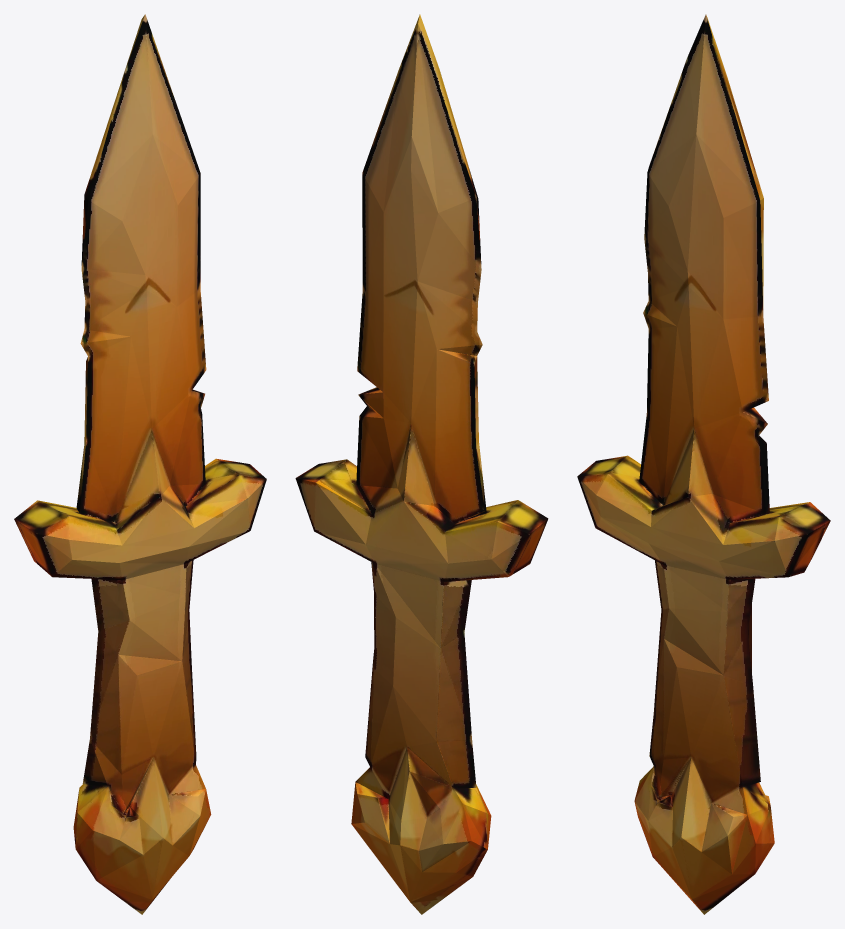
File: fantasy_sword_blade.glb
3 renders of one model, left to right at view 1: azimuth 30°, elevation 25°; view 2: azimuth 150°, elevation 25°; view 3: azimuth 330°, elevation 25°, orthographic.
Parts seen in each view (by area): view 1: TexturedMesh_.obj; view 2: TexturedMesh_.obj; view 3: TexturedMesh_.obj.
Boxes of the visible parts, x1,y1,x2,y2 form: TexturedMesh_.obj: (14,14,266,914); TexturedMesh_.obj: (295,14,548,914); TexturedMesh_.obj: (577,14,830,914).
Bounding box in the file's own units: 0.5422 × 1.98 × 0.1778.
Materials: 1 (1 with a texture image).
